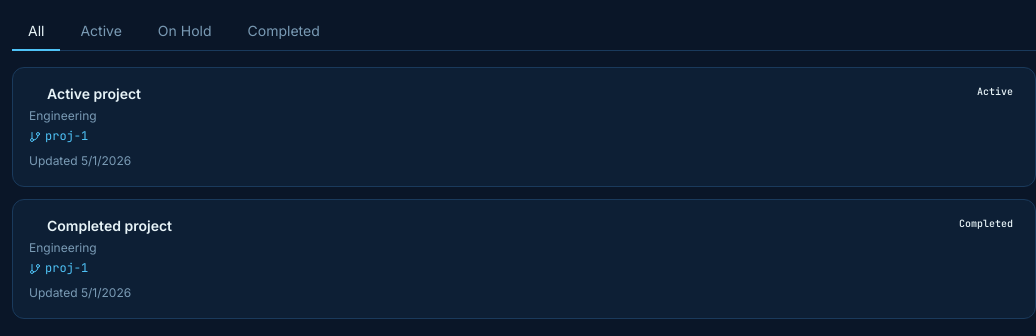
ProjectList tab bar ARIA semantics › keeps the empty state inside the tabpanel
Click the tab "On Hold" at [185, 32], box [142,12,228,51]
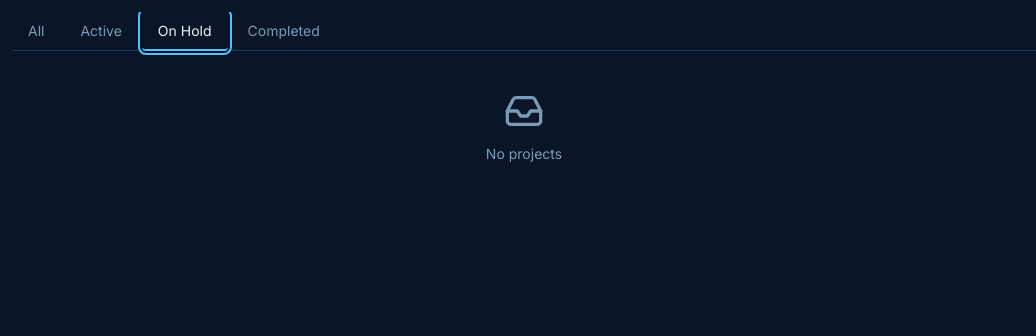
Expected: the text "No projects" is shown, [486,142,562,164]
